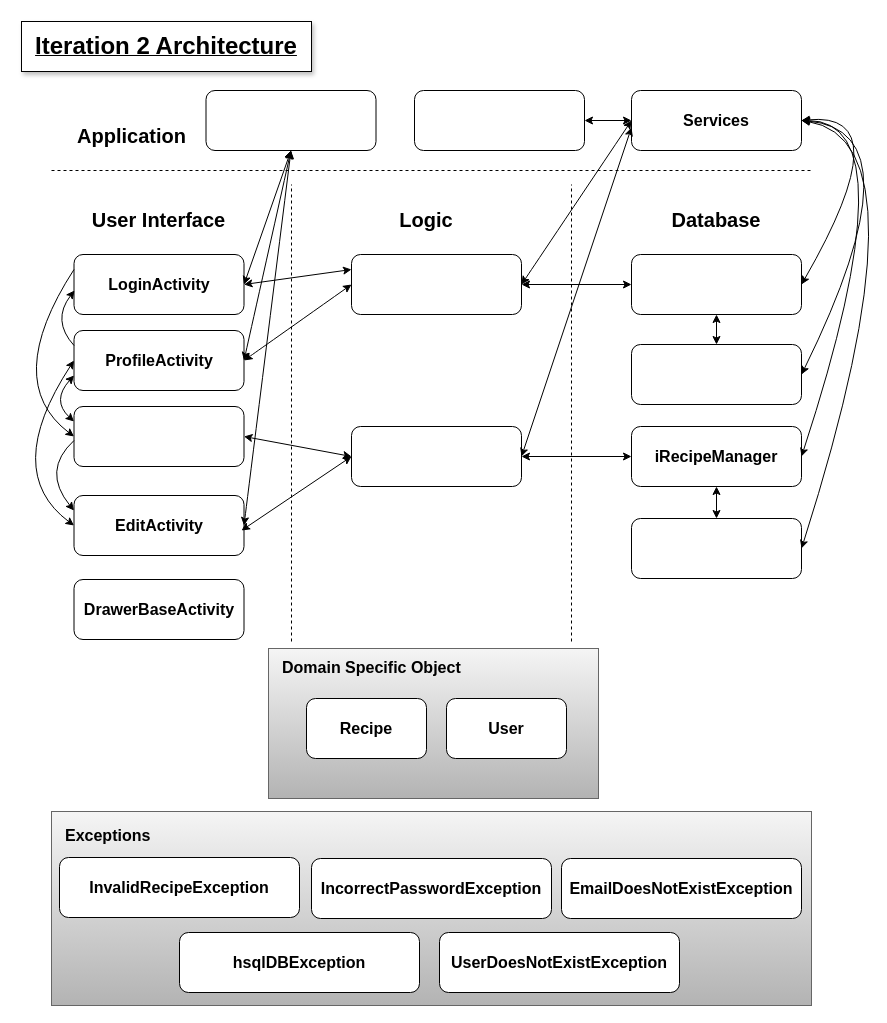
The diagram is 887 pixels wide and 1023 high, and some of its shapes have lost their labels. The shapes that lost their labels are listed below. From the top down, each one's centre as x and y in pixels, then its label:
pixel 290 120: App
pixel 499 120: Main
pixel 436 284: UserManager
pixel 716 284: iUserManager
pixel 716 374: userPersisHsqlDB
pixel 158 436: ViewActivity
pixel 436 456: RecipeManager
pixel 716 548: recipePersisHsqlDB
